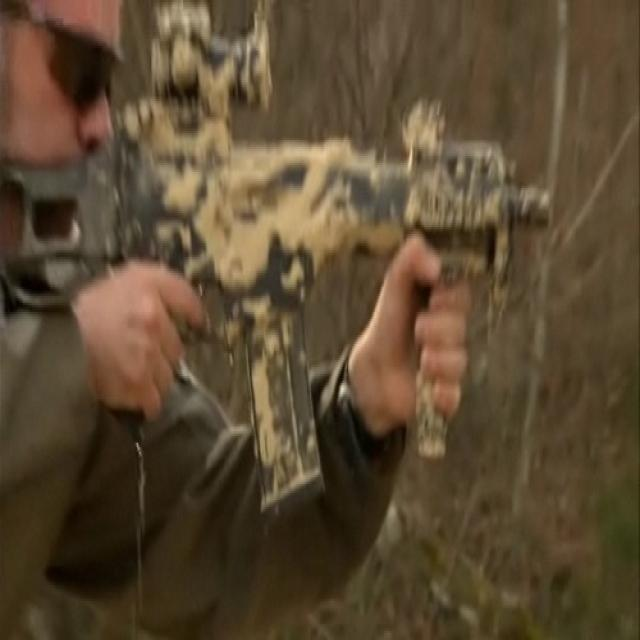rifle: (1, 1, 562, 526)
